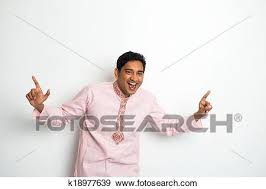Indian_Male: (114, 47, 148, 99)
